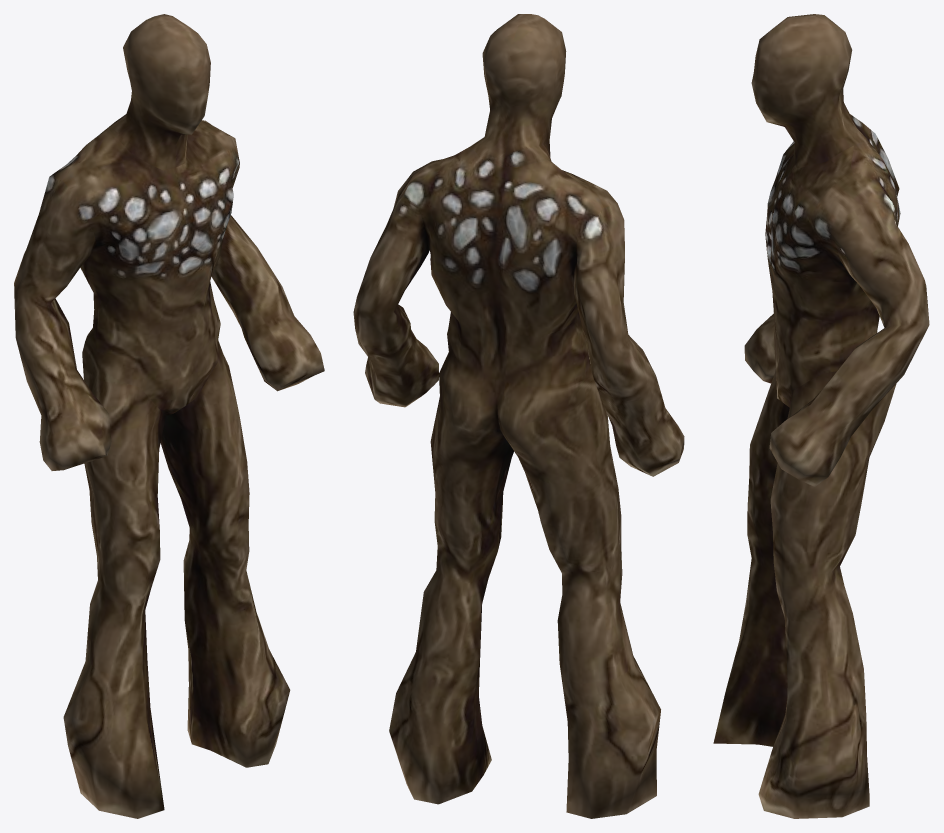
Rendered from 51-promethean.glb.
3 views of the same model, side by side, from view 1: azimuth 30°, elevation 25°; view 2: azimuth 150°, elevation 25°; view 3: azimuth 270°, elevation 25° (orthographic). The views are drawn at different scales.
Size of the model in its own units: 1.35 by 3.36 by 0.872.
Materials: 1 (1 with a texture image).
